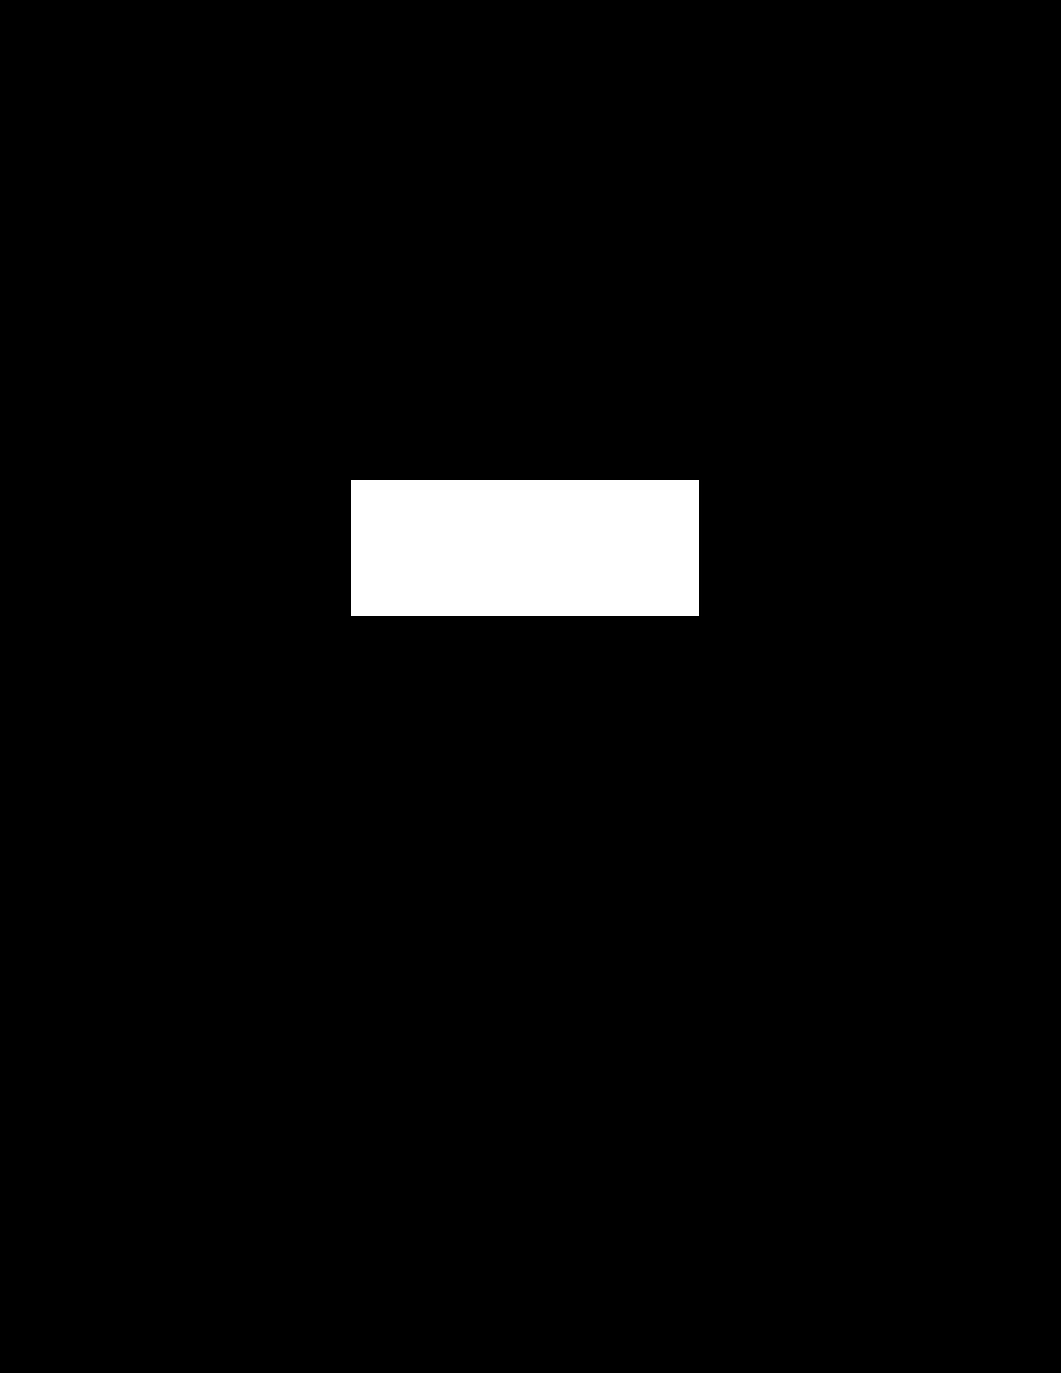table: (351, 480, 698, 615)
